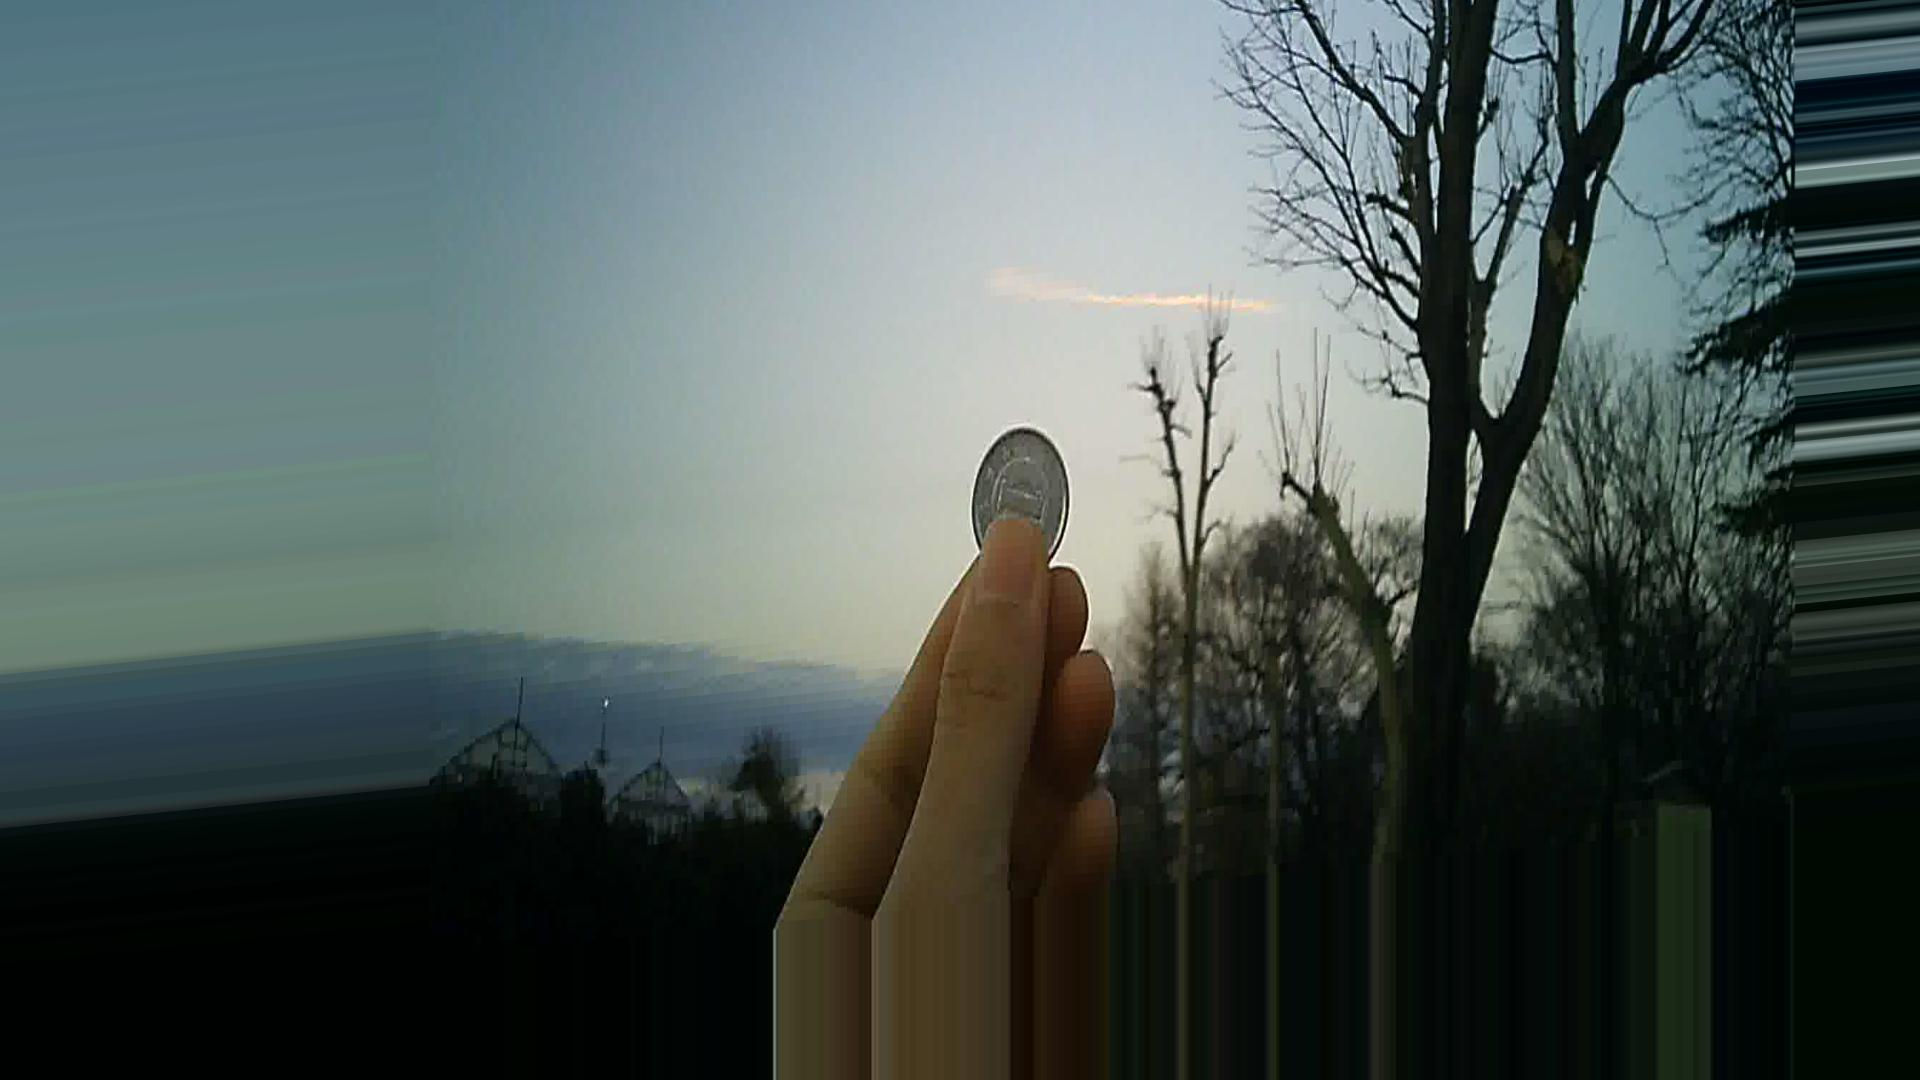1 Yen: (956, 434, 1077, 564)
